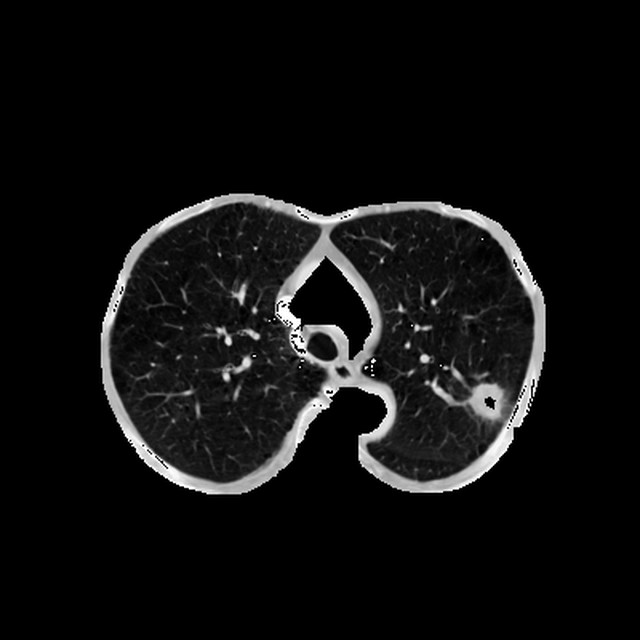PN: (469, 382, 504, 418)
